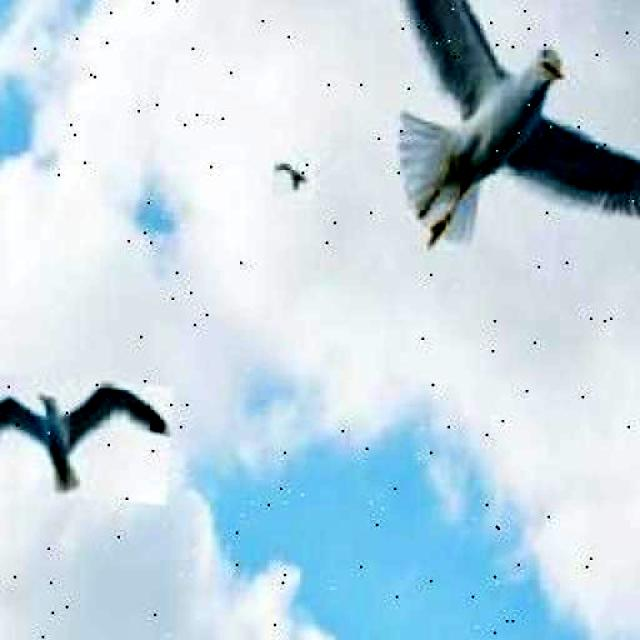airplane: (314, 0, 640, 278), (0, 372, 174, 504), (271, 161, 315, 199)
